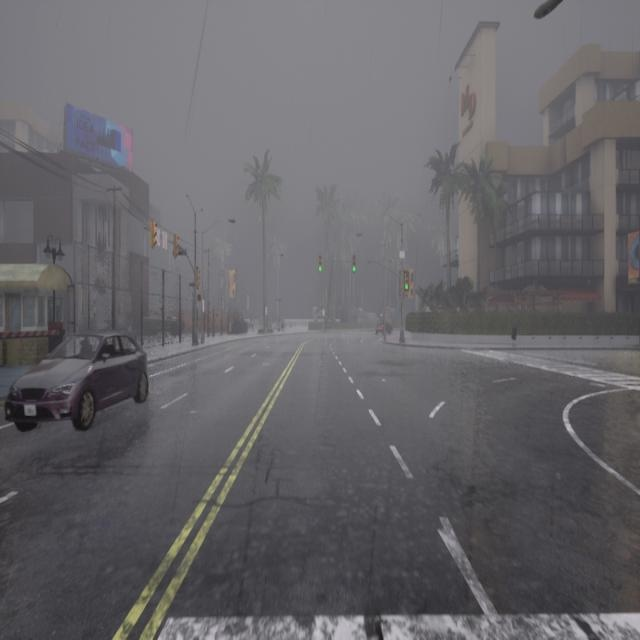bien_chi_dan: (151, 220, 157, 247), (404, 272, 410, 292), (174, 234, 179, 258), (318, 252, 322, 274), (196, 266, 200, 288), (352, 254, 356, 274), (352, 265, 356, 272), (405, 284, 409, 290), (318, 266, 322, 272), (153, 224, 156, 230), (175, 237, 178, 243), (197, 271, 199, 275)
